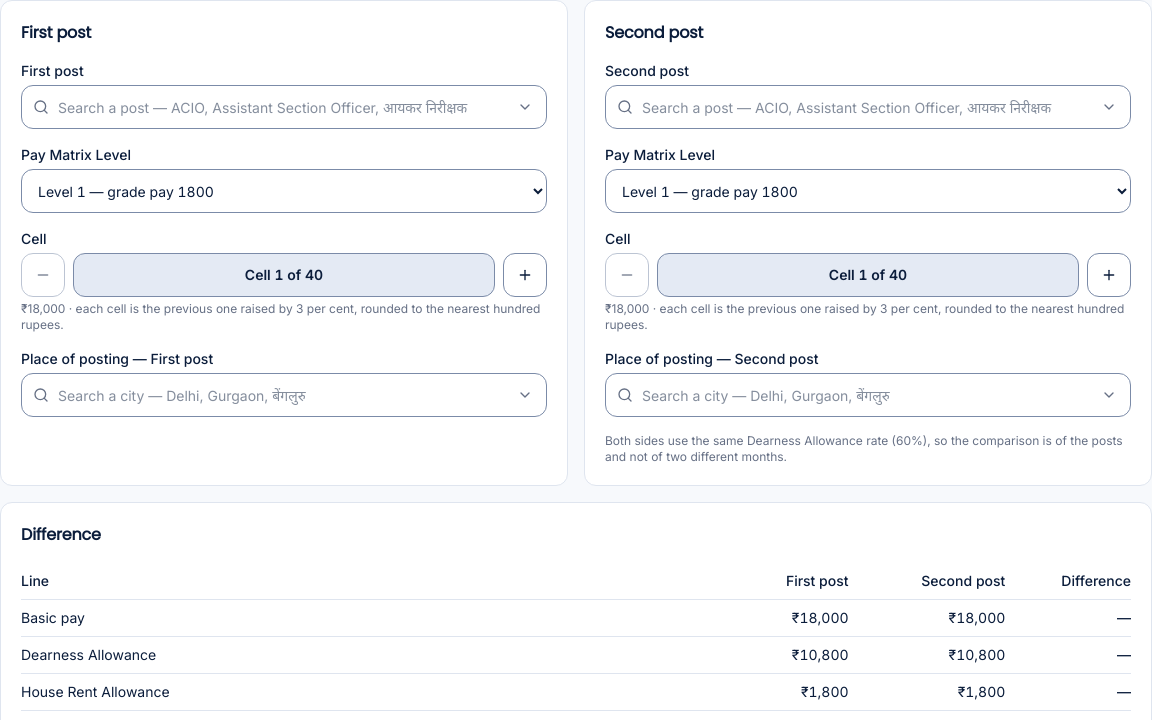
Scenario: ComparePanel › shows each side its own selected post, independently of the other
Type "ACIO" into the dropdown labelled "First post" at (284, 107), box [21,85,547,129]
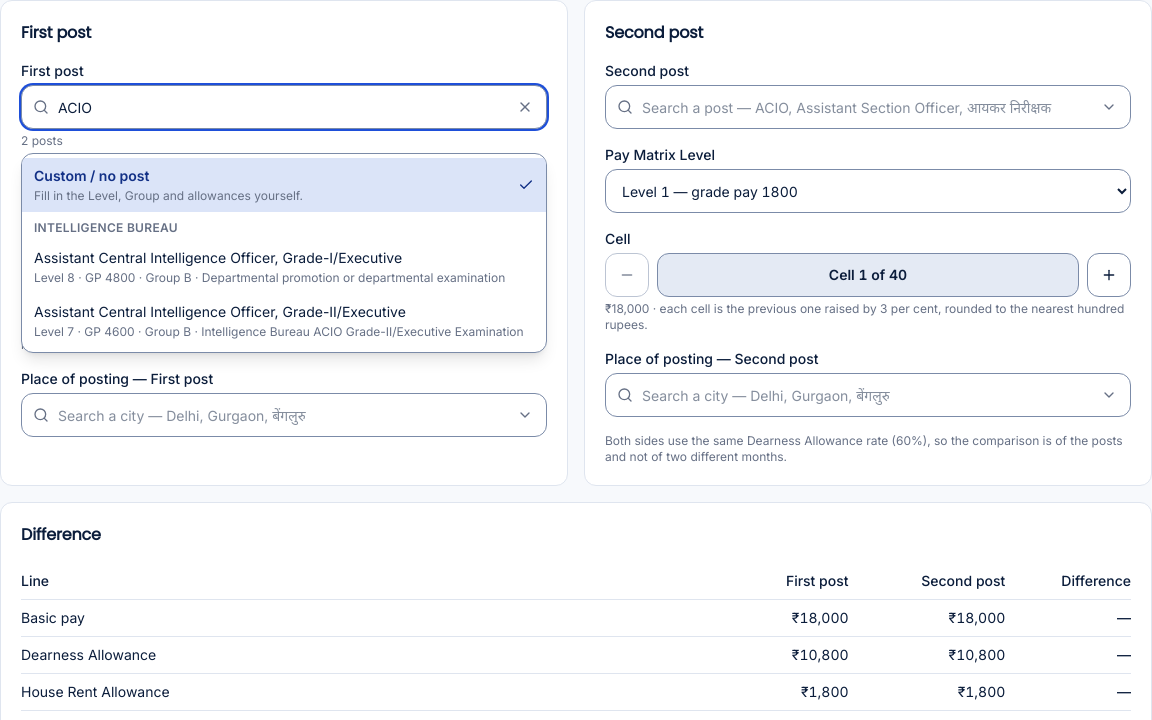
Press Arrowdown Enter
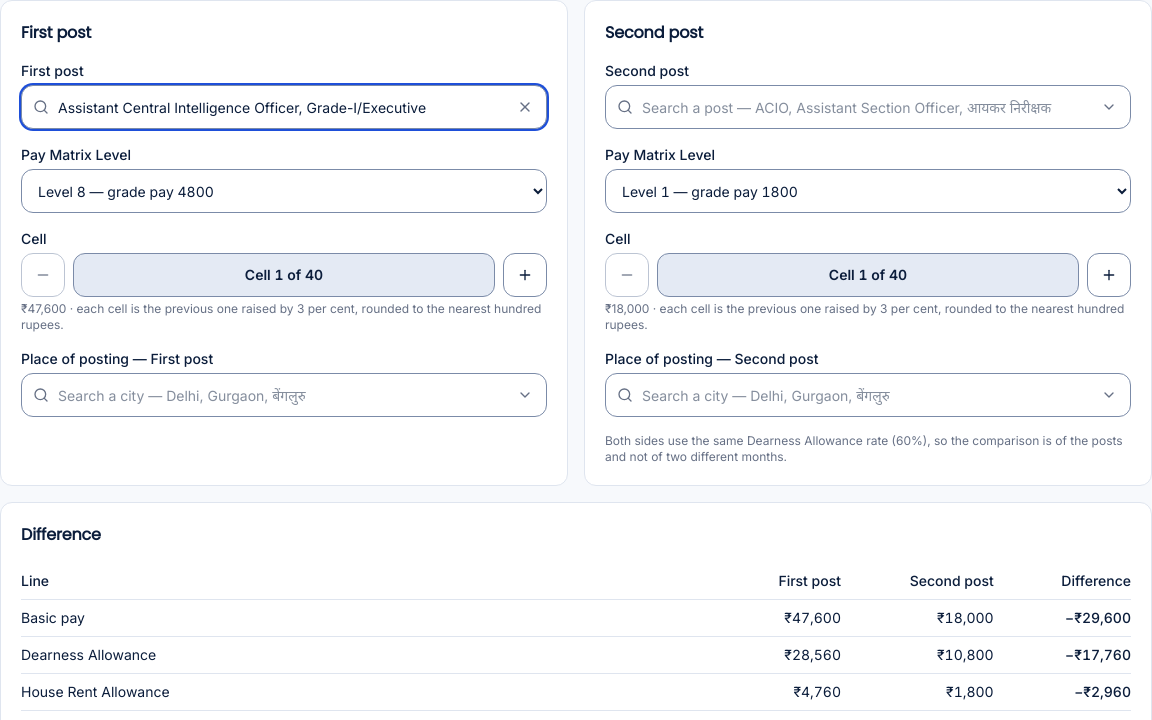
Type "constable" into the dropdown labelled "Second post" at (868, 107), box [605,85,1131,129]
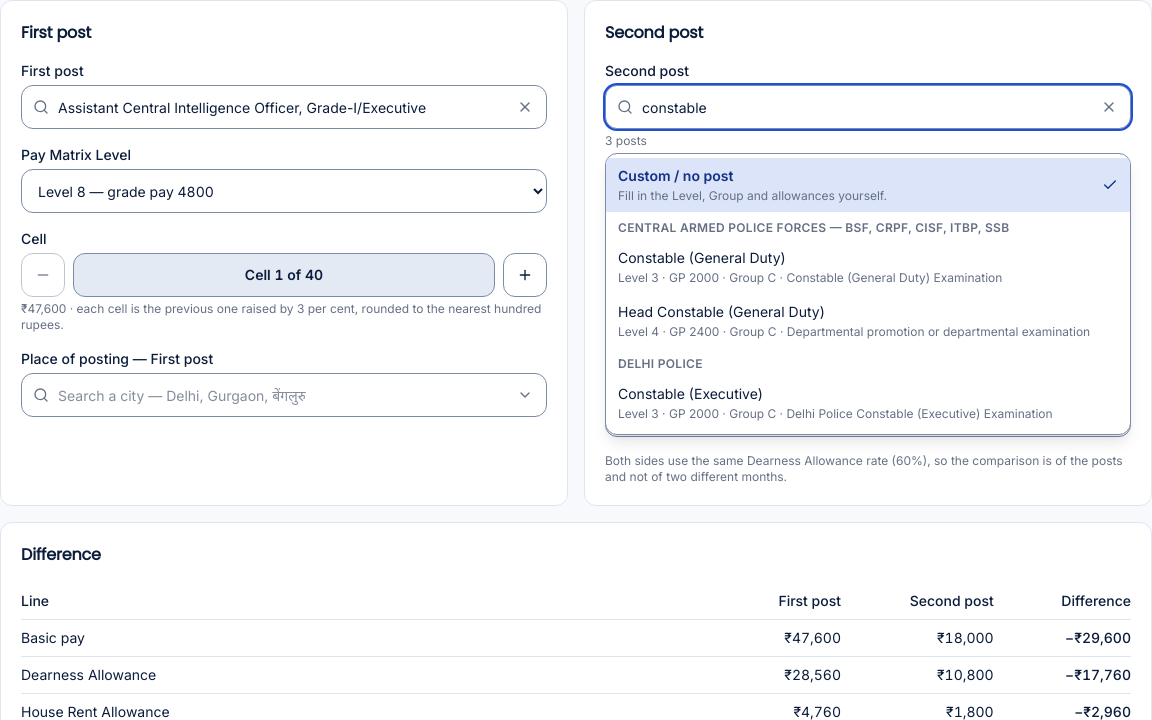
Press Arrowdown Enter
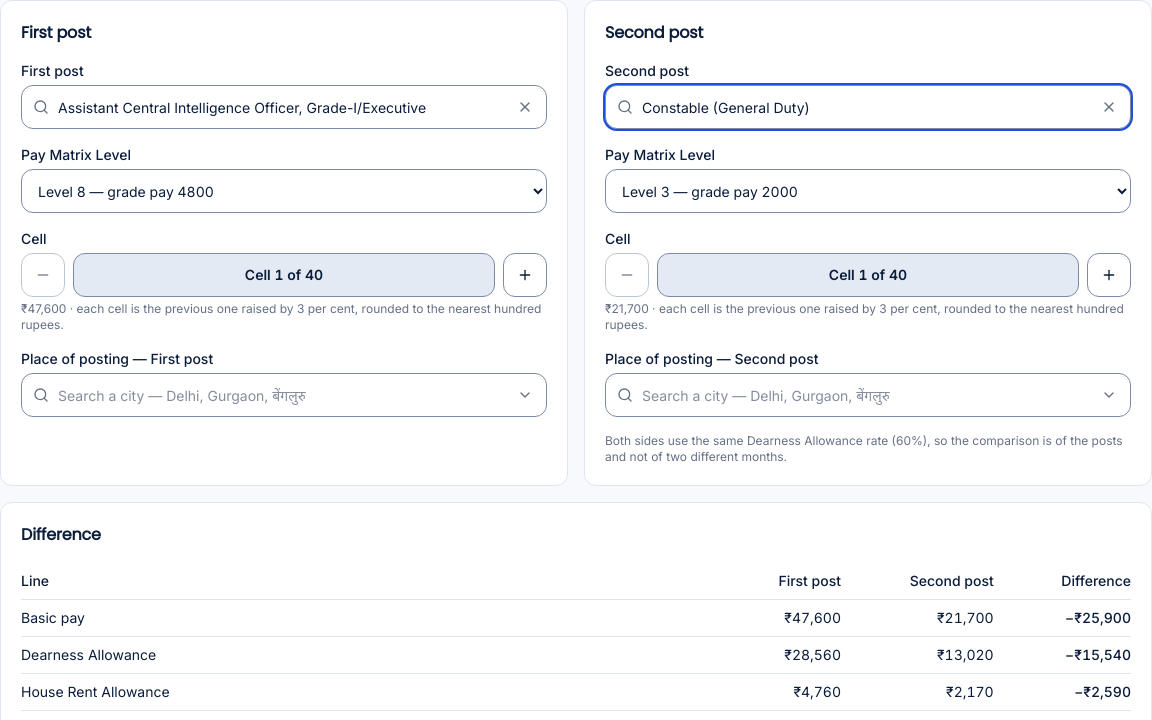
Check: the dropdown labelled "First post" holds "Assistant Central Intelligence Officer, Grade-I/Executive", box [21,85,547,129]
Check: the dropdown labelled "Second post" is not empty, box [605,85,1131,129]
Check: the dropdown labelled "Second post" does not hold "Assistant Central Intelligence Officer, Grade-I/Executive", box [605,85,1131,129]
